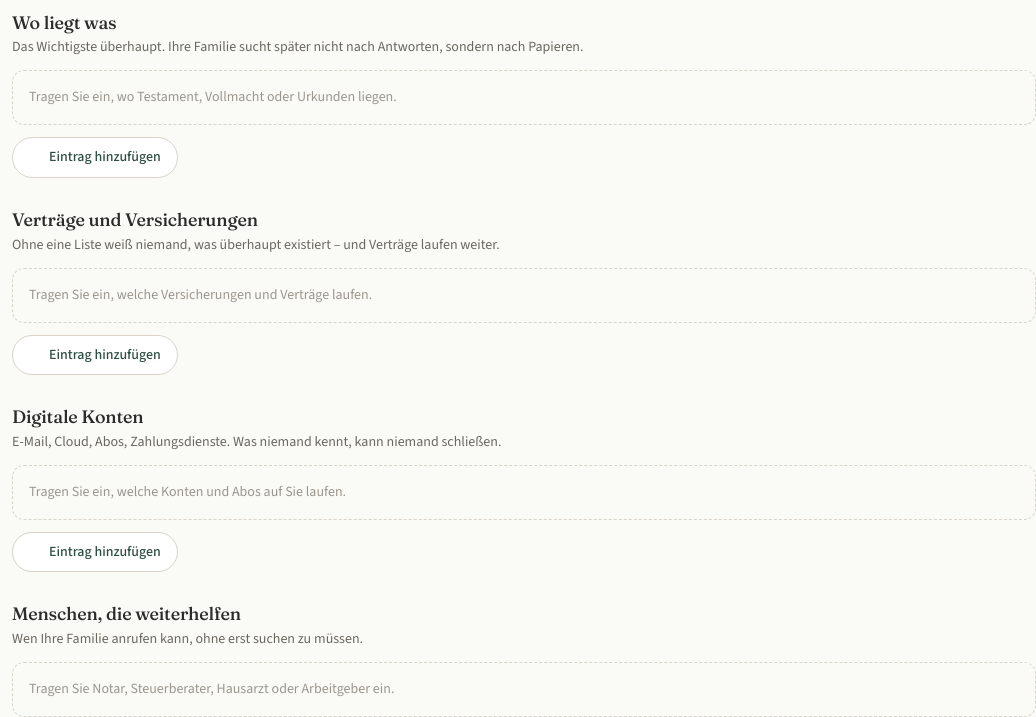
Test: EntriesPanel › warns against typing a password into the digital accounts section
Click the button with class "entry-section__add" below "Digitale Konten".
click(95, 552)  # box [12,532,178,572]
(page scrolled)
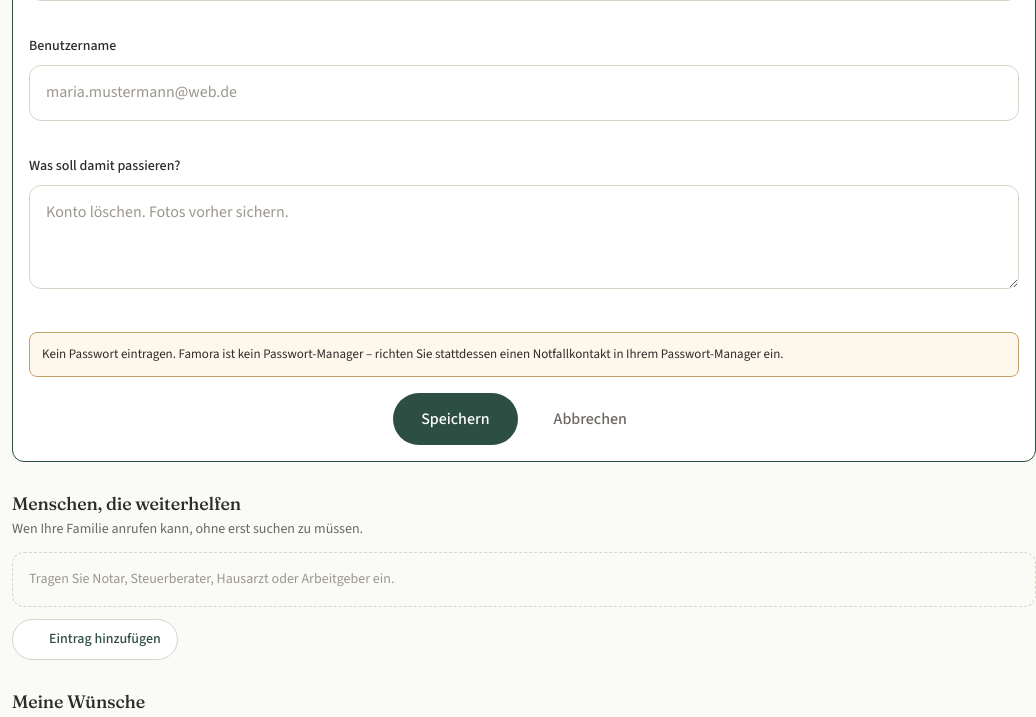
Expected: the text with class "entry-form__caution" shows "Kein Passwort eintragen", [42,345,784,363]
